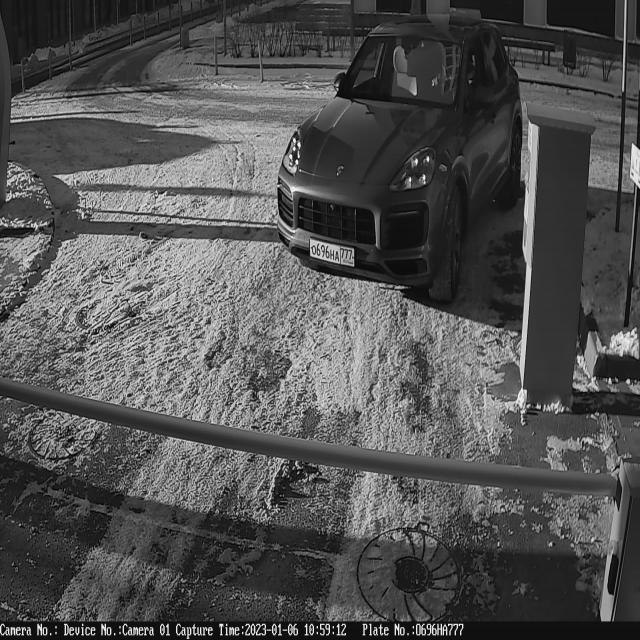car-plate-numbers: (307, 236, 358, 277)
